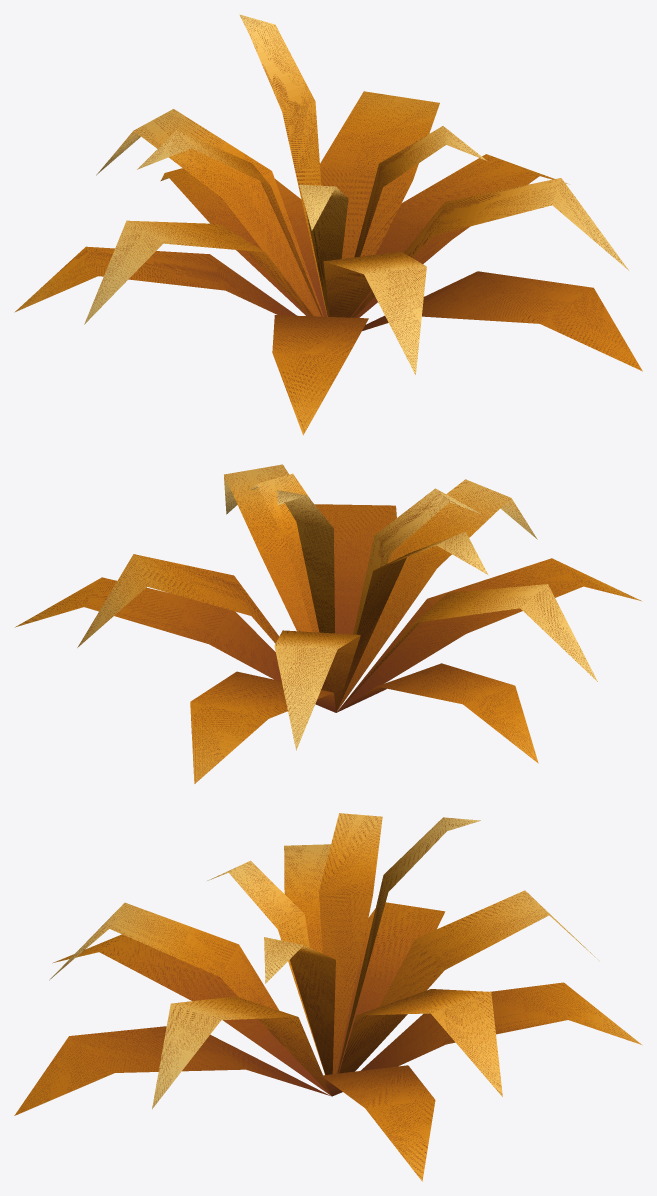
The model's file is Bush_2B.fbx.
The picture shows the model from 3 angles, top to bottom: view 1: azimuth 30°, elevation 25°; view 2: azimuth 150°, elevation 25°; view 3: azimuth 270°, elevation 25°; orthographic projection. The views are drawn at different scales.
Parts seen in each view (by area): view 1: Bush_2B; view 2: Bush_2B; view 3: Bush_2B.
Boxes of the visible parts, x1=… form: Bush_2B: x1=14, y1=14, x2=642, y2=435; Bush_2B: x1=15, y1=464, x2=641, y2=783; Bush_2B: x1=14, y1=813, x2=642, y2=1181.
Size of the model in its own units: 1.24 by 0.5895 by 1.25.
